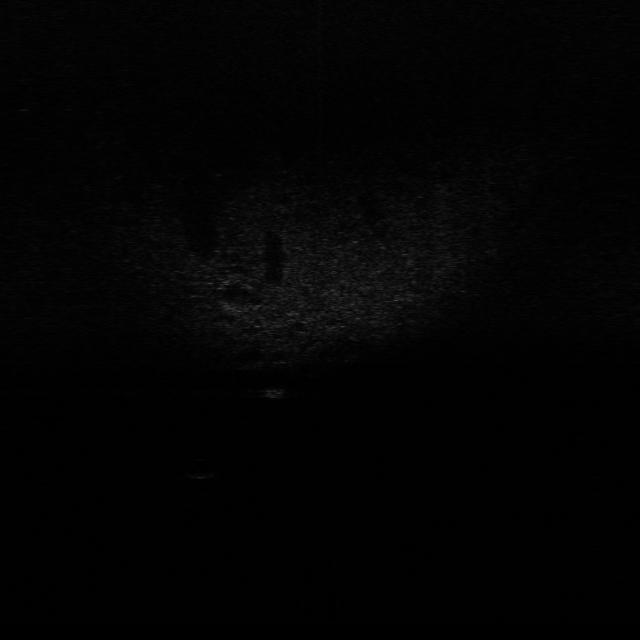ball: (177, 458, 222, 480)
cube: (258, 380, 286, 400)
